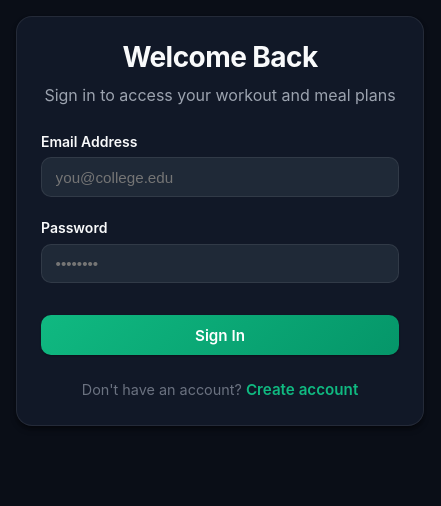
Scenario: UI Components & Accessibility › renders LoginPage with accessible labels and required validation
Expected: the field labelled "Email Address" is shown, [41,157,399,197]
Expected: the password field labelled "Password" is shown, [41,244,399,283]
// Trigger submit with empty fields
Click the button "Sign In" at (220, 335), box [41,315,399,355]
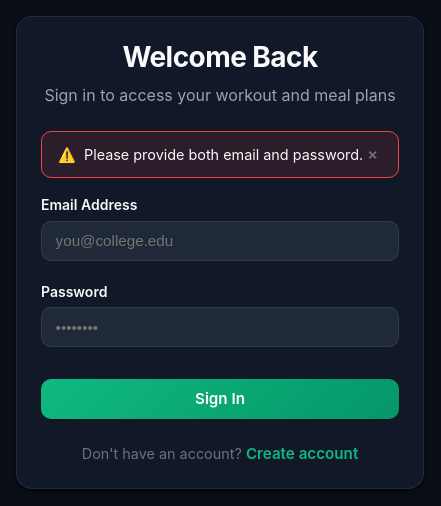
Expected: the message shows "Please provide both email and password", [84,146,363,163]
